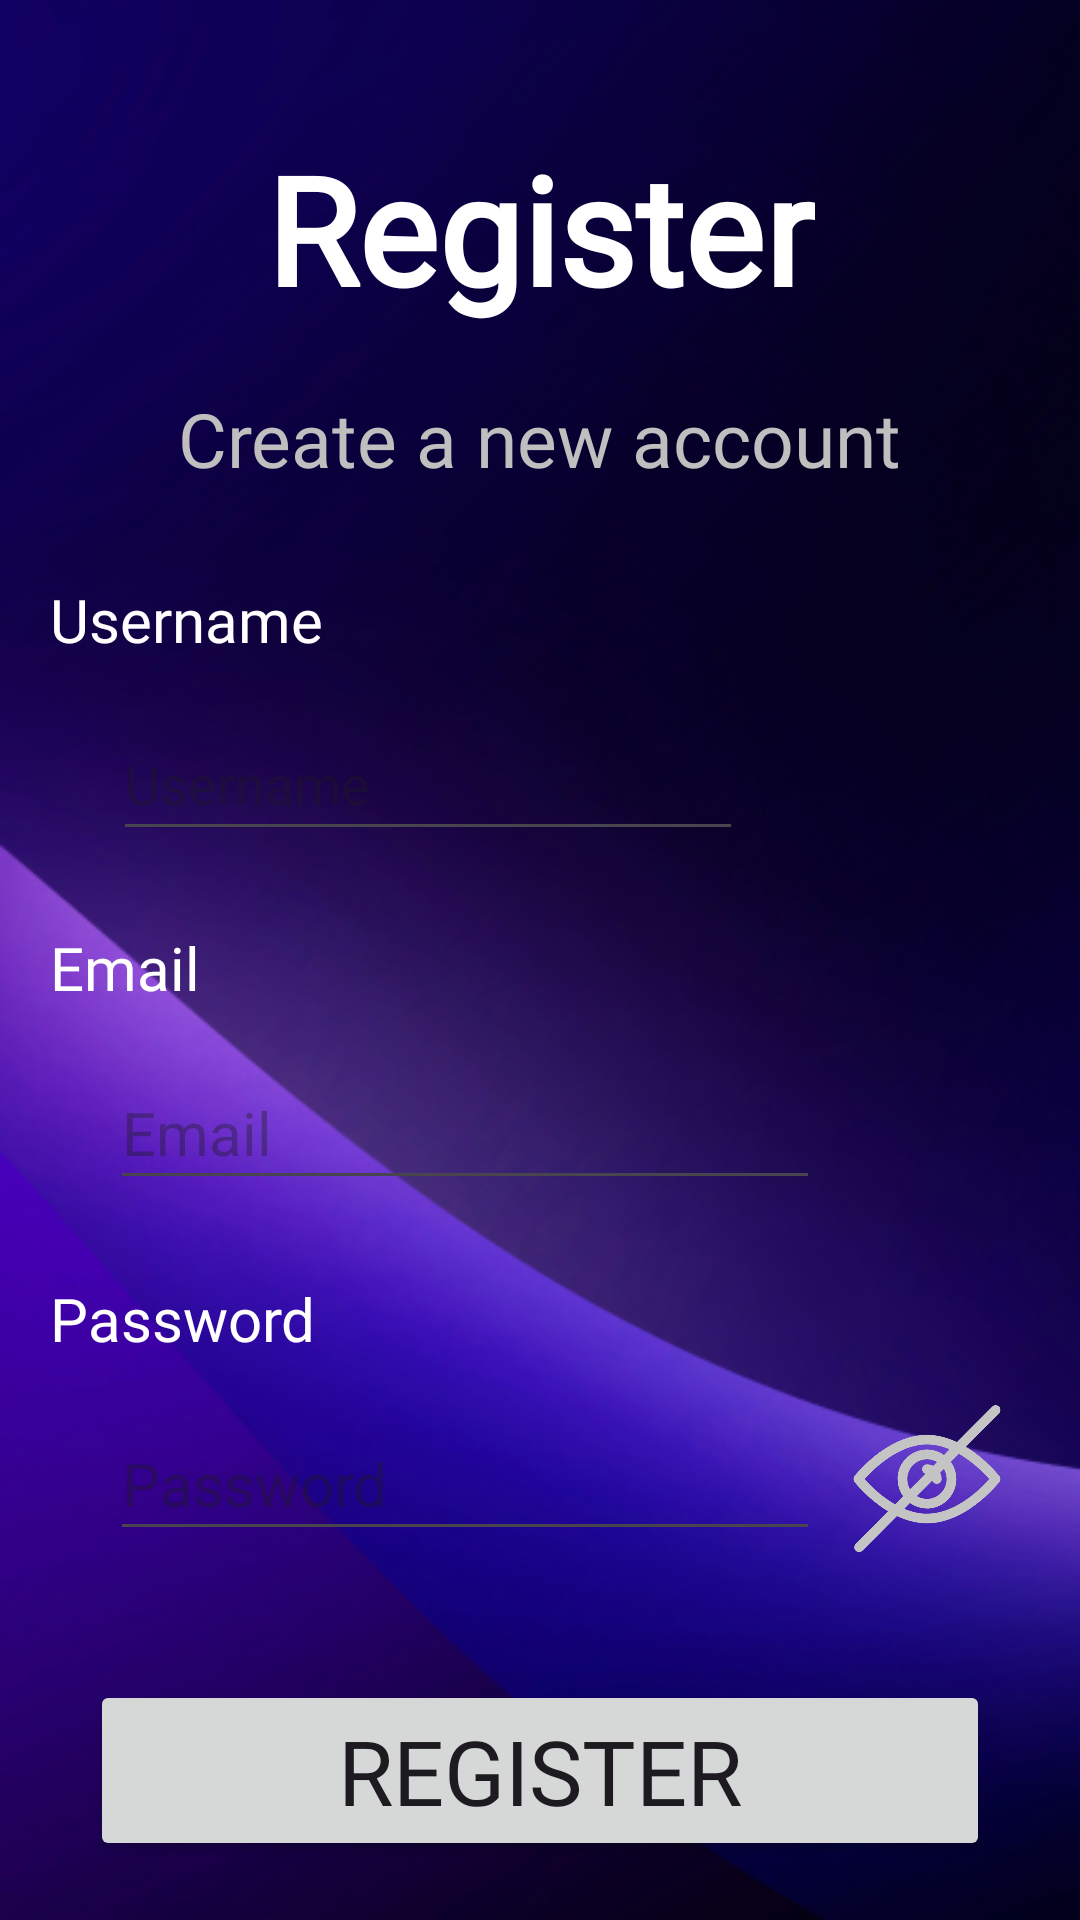

Screen size 1080×1920. Icon name, then its center in pixels as (x,y):
Image d'oeil pour mot de passe: (926,1479)
